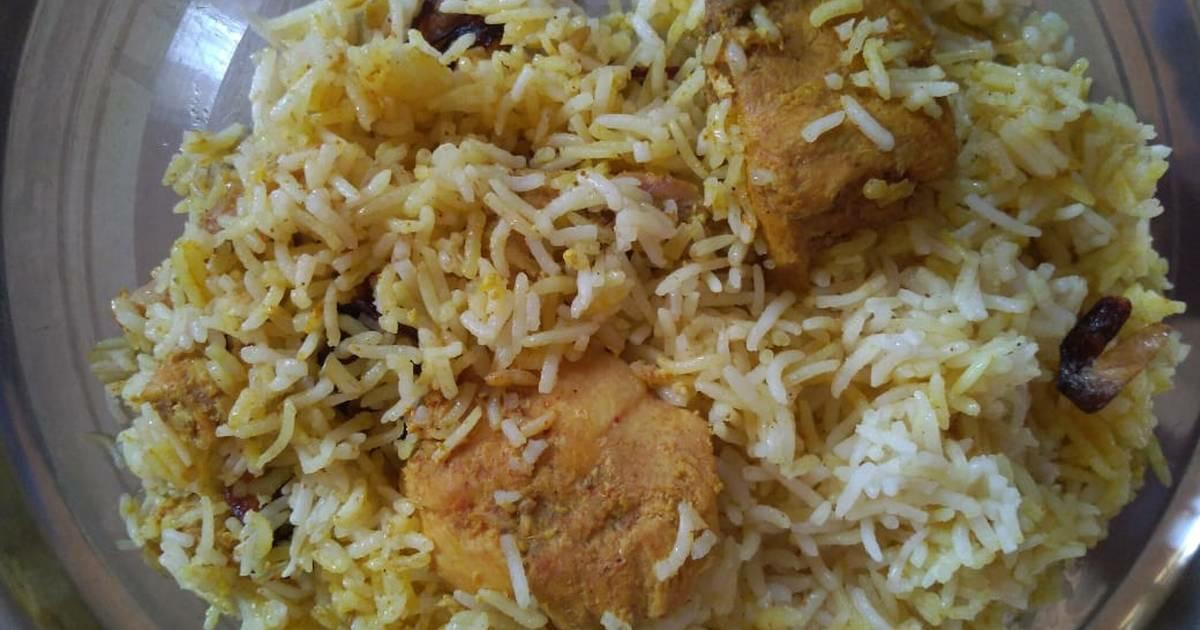Biryani: (94, 0, 1200, 630)
